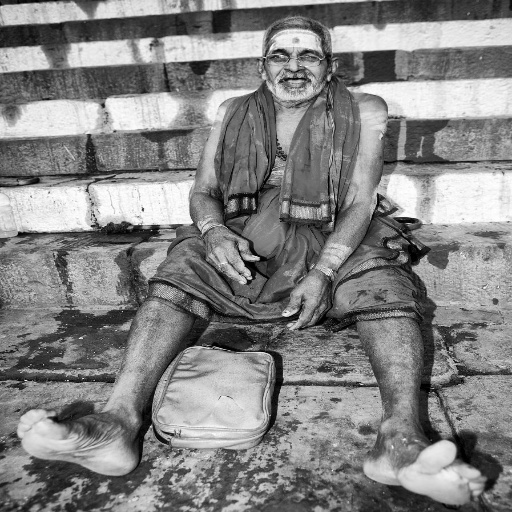hand: (200, 220, 258, 278), (276, 275, 334, 332)
